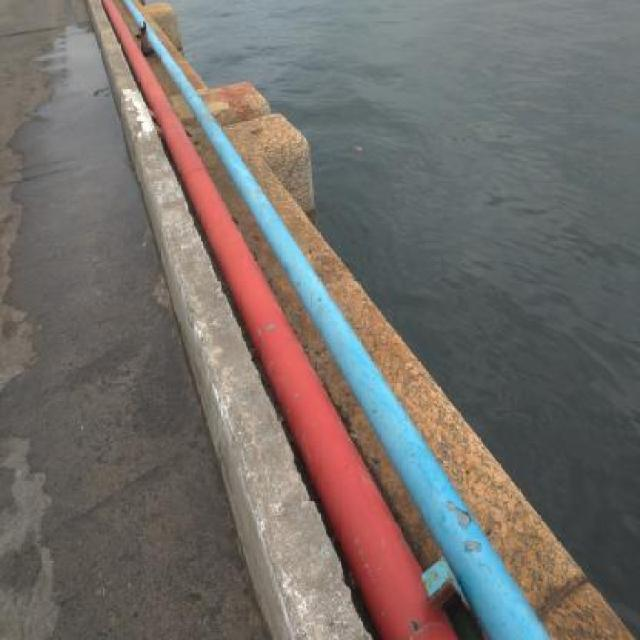gas: (131, 11, 538, 637), (107, 8, 457, 635)
